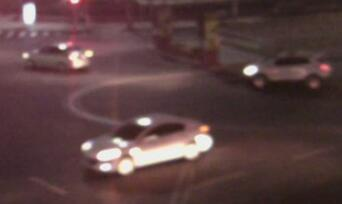car: (78, 114, 215, 175), (243, 48, 336, 92), (19, 41, 93, 72)
